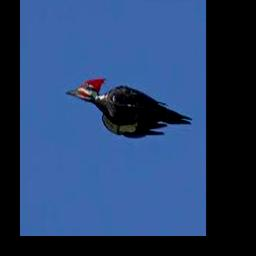Woodpecker: (66, 77, 193, 137)
